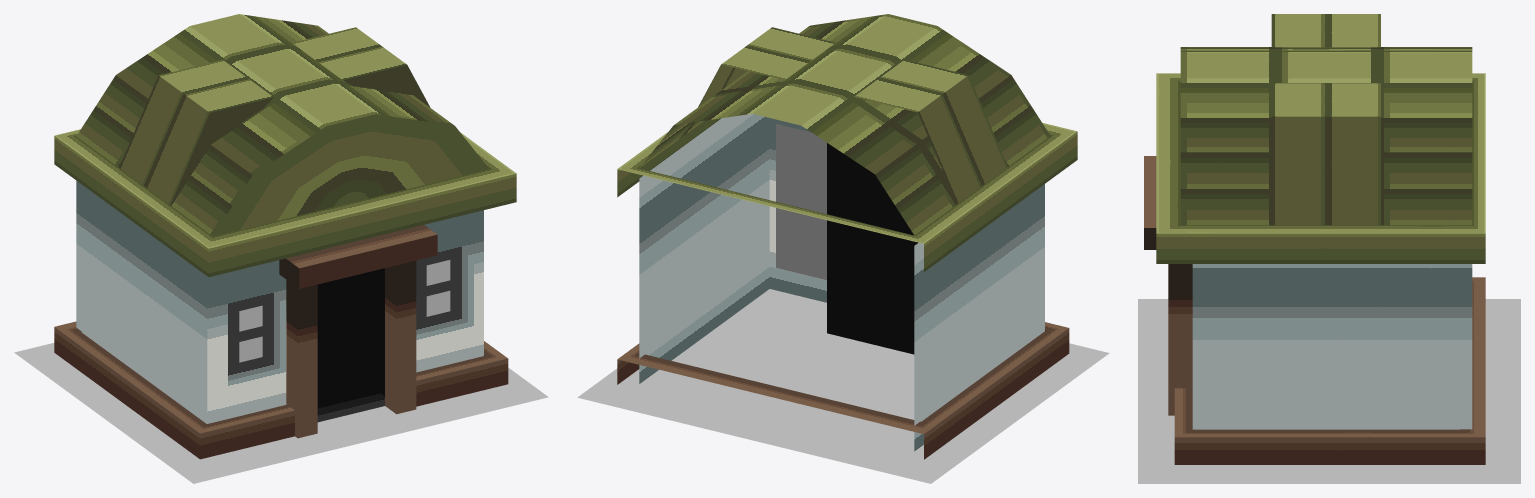
File: Pokemon Day Care.obj
3 renders of one model, left to right at view 1: azimuth 30°, elevation 25°; view 2: azimuth 150°, elevation 25°; view 3: azimuth 270°, elevation 25°, orthographic. The views are drawn at different scales.
Parts seen in each view (by area): view 1: polygon2, polygon3, polygon1, polygon0; view 2: polygon3, polygon2, polygon1, polygon0; view 3: polygon2, polygon3, polygon1.
Part boxes in pixels (<box>): polygon2: <box>54,14,516,277</box>; polygon3: <box>54,180,508,459</box>; polygon1: <box>14,343,548,483</box>; polygon0: <box>239,260,450,362</box>; polygon3: <box>617,113,1069,459</box>; polygon2: <box>617,14,1077,271</box>; polygon1: <box>577,289,1109,483</box>; polygon0: <box>776,124,826,280</box>; polygon2: <box>1156,14,1485,263</box>; polygon3: <box>1144,156,1485,464</box>; polygon1: <box>1138,299,1520,483</box>.
Size of the model in its own units: 72 by 59.21 by 63.
